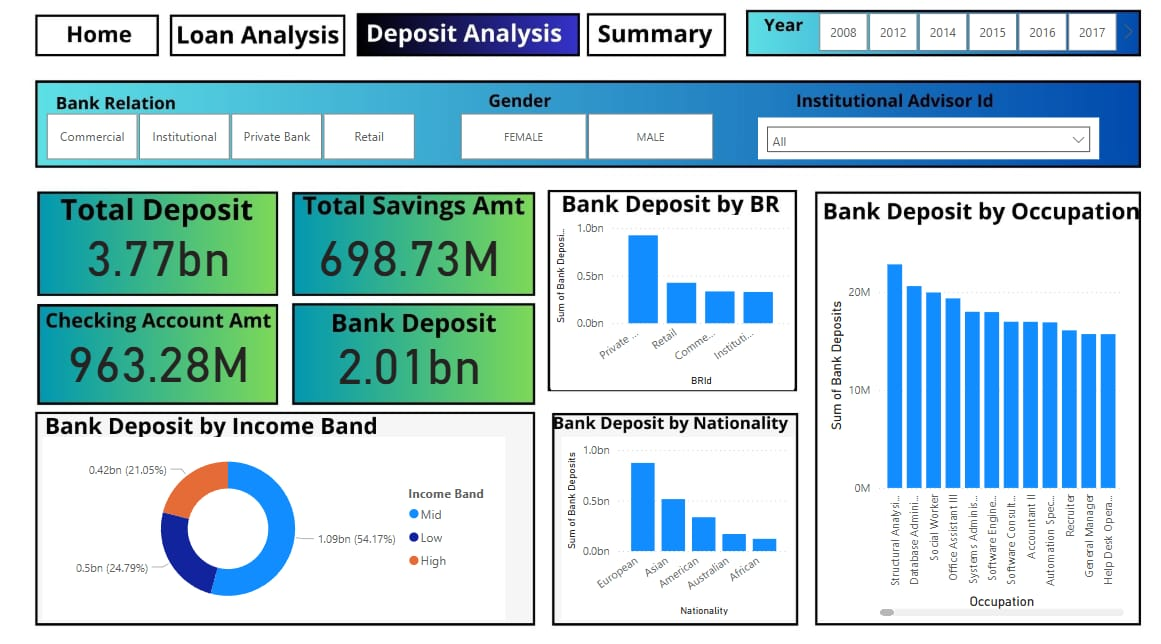

The dashboard page shown, as its layout file describes it:
{"tool":"powerbi","page":{"name":"Deposit Analysis","canvas":[1280,720],"ordinal":2},"visuals":[{"type":"slicer","fields":{"Values":["Banking.Joined Bank.Variation.Date Hierarchy.Year"]},"box":[873.3,18.3,371.7,55],"z":0},{"type":"slicer","fields":{"Values":["Banking.BRId"]},"box":[35,126.7,448.3,63.3],"z":1000},{"type":"slicer","fields":{"Values":["Banking.GenderId"]},"box":[485,126.7,323.3,63.3],"z":2000},{"type":"slicer","fields":{"Values":["Banking.IAId"]},"box":[833.3,138.3,370,45],"z":3000},{"type":"card","fields":{"Values":["Sum(Banking.Deposits)"]},"box":[76.7,226.7,211.7,115],"z":4000},{"type":"card","fields":{"Values":["Sum(Banking.Bank Deposits)"]},"box":[348.3,343.3,211.7,115],"z":5000},{"type":"card","fields":{"Values":["Sum(Banking.Checking Accounts)"]},"box":[76.7,341.7,211.7,115],"z":6000},{"type":"card","fields":{"Values":["Sum(Banking.Saving Accounts)"]},"box":[348.3,226.7,211.7,115],"z":7000},{"type":"donutChart","fields":{"Category":["Banking.Income Band"],"Y":["Sum(Banking.Bank Deposits)"]},"box":[56.7,485,501.7,198.3],"z":8000},{"type":"columnChart","fields":{"Category":["Banking.BRId"],"Y":["Sum(Banking.Bank Deposits)"]},"box":[608.3,243.3,263.3,190],"z":9000},{"type":"columnChart","fields":{"Category":["Banking.Nationality"],"Y":["Sum(Banking.Bank Deposits)"]},"box":[620,485,251.7,198.3],"z":10000},{"type":"columnChart","fields":{"Category":["Banking.Occupation"],"Y":["Sum(Banking.Bank Deposits)"]},"box":[905,260,330,423.3],"z":11000},{"type":"actionButton","box":[56.7,28.3,118.3,40],"z":12000},{"type":"actionButton","box":[201.7,28.3,178.3,40],"z":13000},{"type":"actionButton","box":[405,28.3,235,40],"z":14000},{"type":"actionButton","box":[651.7,28.3,143.3,40],"z":15000}]}

Visuals, with their boxes in screenshot pixels (x1, y1, x2, y2), scaled from the page's 1280x720 canvas onto the 1161x644 screenshot:
slicer - Banking.Joined Bank.Variation.Date Hierarchy.Year: x1=792, y1=16, x2=1129, y2=66
slicer - Banking.BRId: x1=32, y1=113, x2=438, y2=170
slicer - Banking.GenderId: x1=440, y1=113, x2=733, y2=170
slicer - Banking.IAId: x1=756, y1=124, x2=1091, y2=164
card - Sum(Banking.Deposits): x1=70, y1=203, x2=262, y2=306
card - Sum(Banking.Bank Deposits): x1=316, y1=307, x2=508, y2=410
card - Sum(Banking.Checking Accounts): x1=70, y1=306, x2=262, y2=408
card - Sum(Banking.Saving Accounts): x1=316, y1=203, x2=508, y2=306
donutChart - Banking.Income Band x Sum(Banking.Bank Deposits): x1=51, y1=434, x2=506, y2=611
columnChart - Banking.BRId x Sum(Banking.Bank Deposits): x1=552, y1=218, x2=791, y2=388
columnChart - Banking.Nationality x Sum(Banking.Bank Deposits): x1=562, y1=434, x2=791, y2=611
columnChart - Banking.Occupation x Sum(Banking.Bank Deposits): x1=821, y1=233, x2=1120, y2=611
actionButton: x1=51, y1=25, x2=159, y2=61
actionButton: x1=183, y1=25, x2=345, y2=61
actionButton: x1=367, y1=25, x2=580, y2=61
actionButton: x1=591, y1=25, x2=721, y2=61
